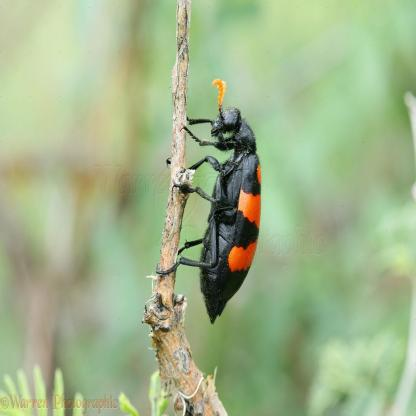beetle: (178, 74, 266, 335)
